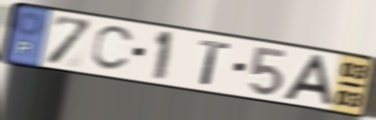1: (151, 29, 174, 82)
5: (246, 45, 292, 98)
7: (47, 14, 94, 67)
A: (280, 53, 336, 108)
C: (89, 25, 138, 73)
T: (198, 37, 232, 88)
